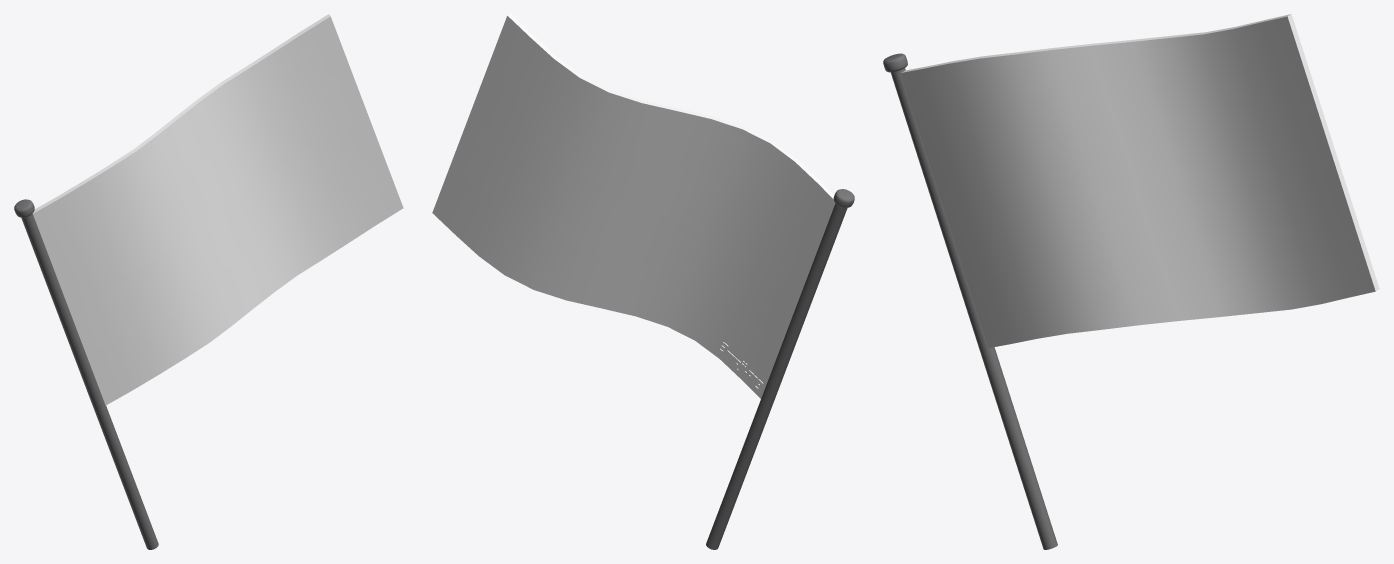
The model's file is white_flag.fbx.
3 renders of one model, left to right at view 1: azimuth 30°, elevation 25°; view 2: azimuth 150°, elevation 25°; view 3: azimuth 330°, elevation 25°, orthographic. The views are drawn at different scales.
Visible parts, largest first — view 1: Circle.2660; view 2: Circle.2660; view 3: Circle.2660.
Part boxes in pixels (bbox=[...]): Circle.2660: bbox=[14, 14, 403, 549]; Circle.2660: bbox=[432, 14, 854, 549]; Circle.2660: bbox=[883, 14, 1379, 549].
Size of the model in its own units: 207 by 239 by 24.02.
1 material, 1 textured.
